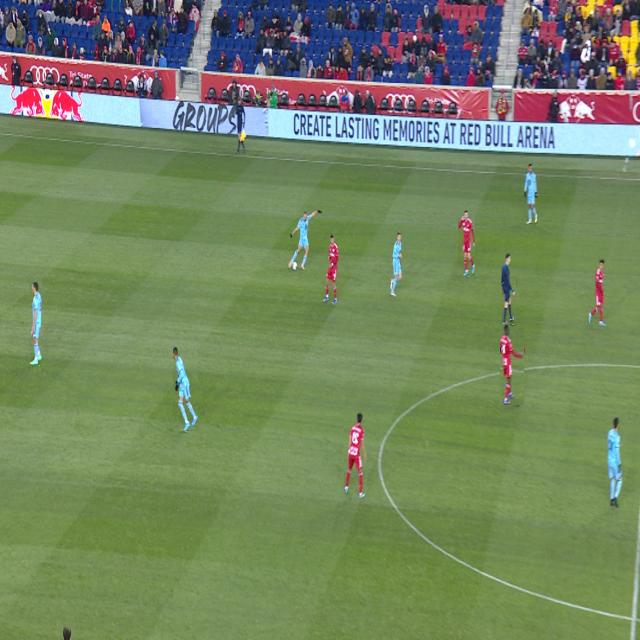football: (292, 261, 297, 271)
player: (173, 348, 198, 431), (288, 209, 322, 270), (500, 325, 524, 405), (345, 413, 367, 498), (607, 418, 623, 508), (589, 260, 606, 326), (458, 211, 475, 276), (323, 235, 339, 304), (30, 283, 42, 365), (524, 164, 538, 224), (390, 232, 402, 297), (64, 628, 70, 640)
referee: (501, 254, 516, 326)
